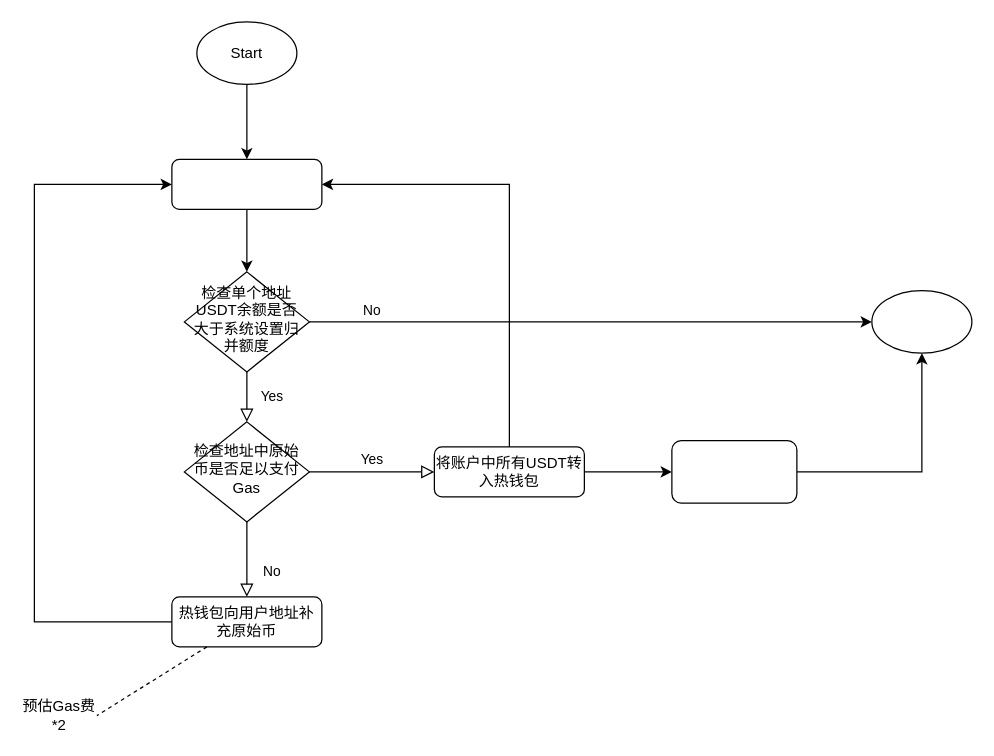
Image size: 994x756. Some labels were removed from this diagram. Each missing label, with the box of its shape:
End: (871, 289, 972, 353)
扫描整个系统内钱包地址，放入Redis: (171, 158, 322, 209)
清除Redis: (671, 439, 797, 503)
